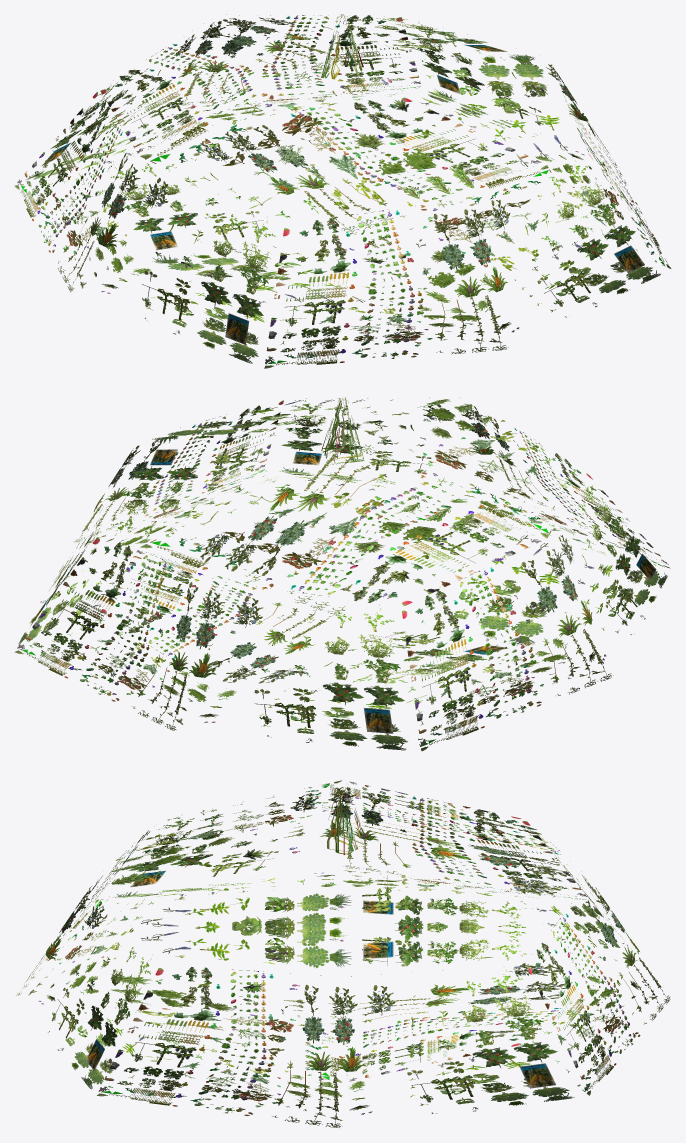
File: sprout_1.obj
The picture shows the model from 3 angles, top to bottom: view 1: azimuth 30°, elevation 25°; view 2: azimuth 150°, elevation 25°; view 3: azimuth 270°, elevation 25°; orthographic projection.
Parts seen in each view (by area): view 1: sprout_1; view 2: sprout_1; view 3: sprout_1.
Boxes of the visible parts, bbox=[...] form: sprout_1: bbox=[14, 14, 671, 368]; sprout_1: bbox=[14, 397, 670, 751]; sprout_1: bbox=[16, 780, 670, 1127].
Bounding box in the file's own units: 0.5052 × 0.1918 × 0.5368.
